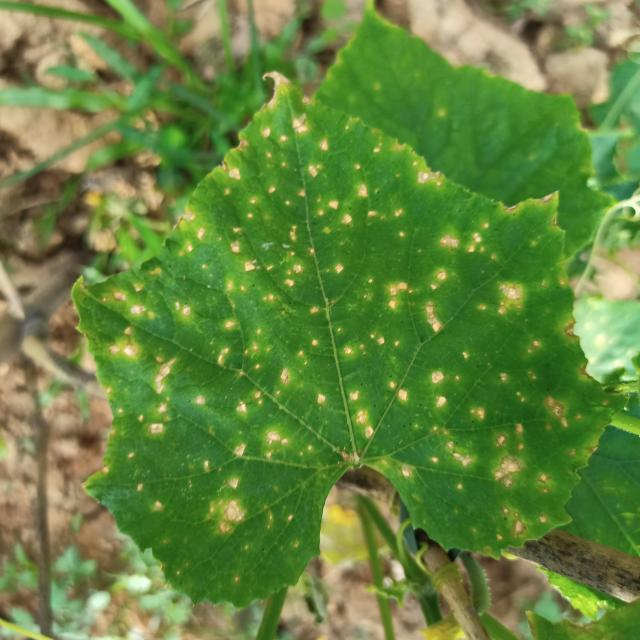disease_cucumber: (165, 94, 532, 335), (84, 268, 349, 544), (346, 278, 588, 540)
